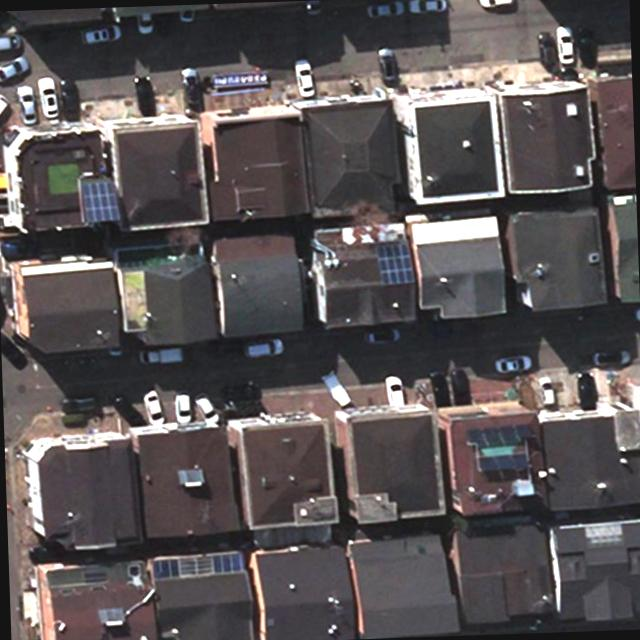solar: (76, 173, 124, 226), (372, 241, 417, 288), (464, 423, 536, 447), (468, 454, 532, 475)
